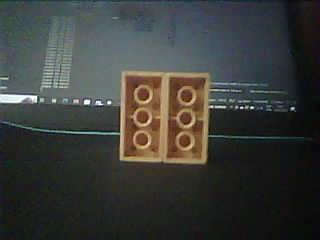lego: (119, 71, 210, 165)
